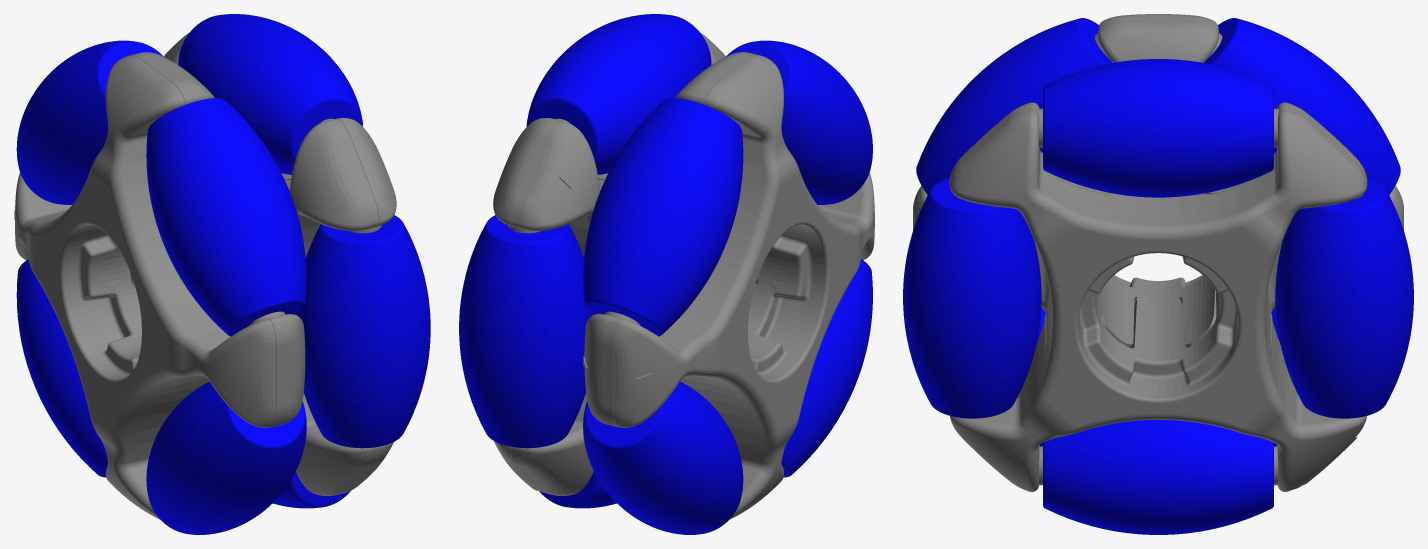
Rendered from model_web.glb.
3 renders of one model, left to right at view 1: azimuth 30°, elevation 25°; view 2: azimuth 150°, elevation 25°; view 3: azimuth 270°, elevation 25°, orthographic.
Parts seen in each view (by area): view 1: Node5, Node3, Node2, Node4, Node1; view 2: Node5, Node3, Node2, Node1, Node4; view 3: Node5, Node1, Node4, Node3, Node2.
Part boxes in pixels (left/top/right/bottom): Node5: left=16, top=14, right=430, bottom=534; Node3: left=15, top=55, right=394, bottom=519; Node2: left=14, top=55, right=396, bottom=501; Node4: left=22, top=33, right=386, bottom=494; Node1: left=15, top=37, right=392, bottom=516; Node5: left=459, top=14, right=872, bottom=534; Node3: left=498, top=45, right=872, bottom=501; Node2: left=497, top=58, right=874, bottom=519; Node1: left=493, top=40, right=874, bottom=494; Node4: left=494, top=32, right=864, bottom=467; Node5: left=903, top=18, right=1413, bottom=534; Node1: left=916, top=17, right=1403, bottom=489; Node4: left=922, top=15, right=1403, bottom=491; Node3: left=913, top=15, right=1403, bottom=491; Node2: left=920, top=14, right=1400, bottom=491.
Bounding box in the file's own units: 18.5 × 34.99 × 34.99.
